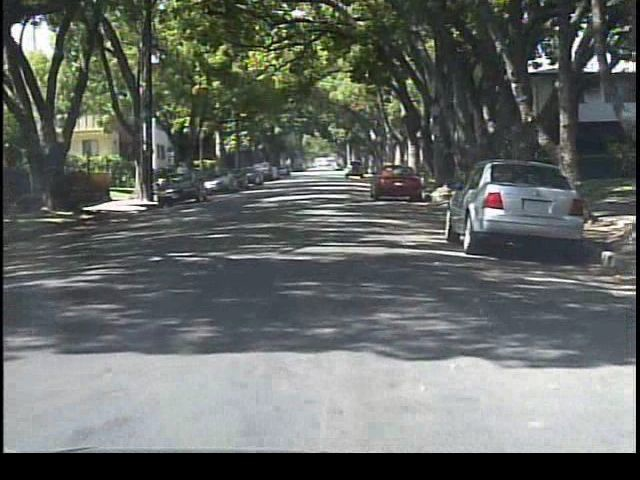person: (172, 163, 191, 197)
